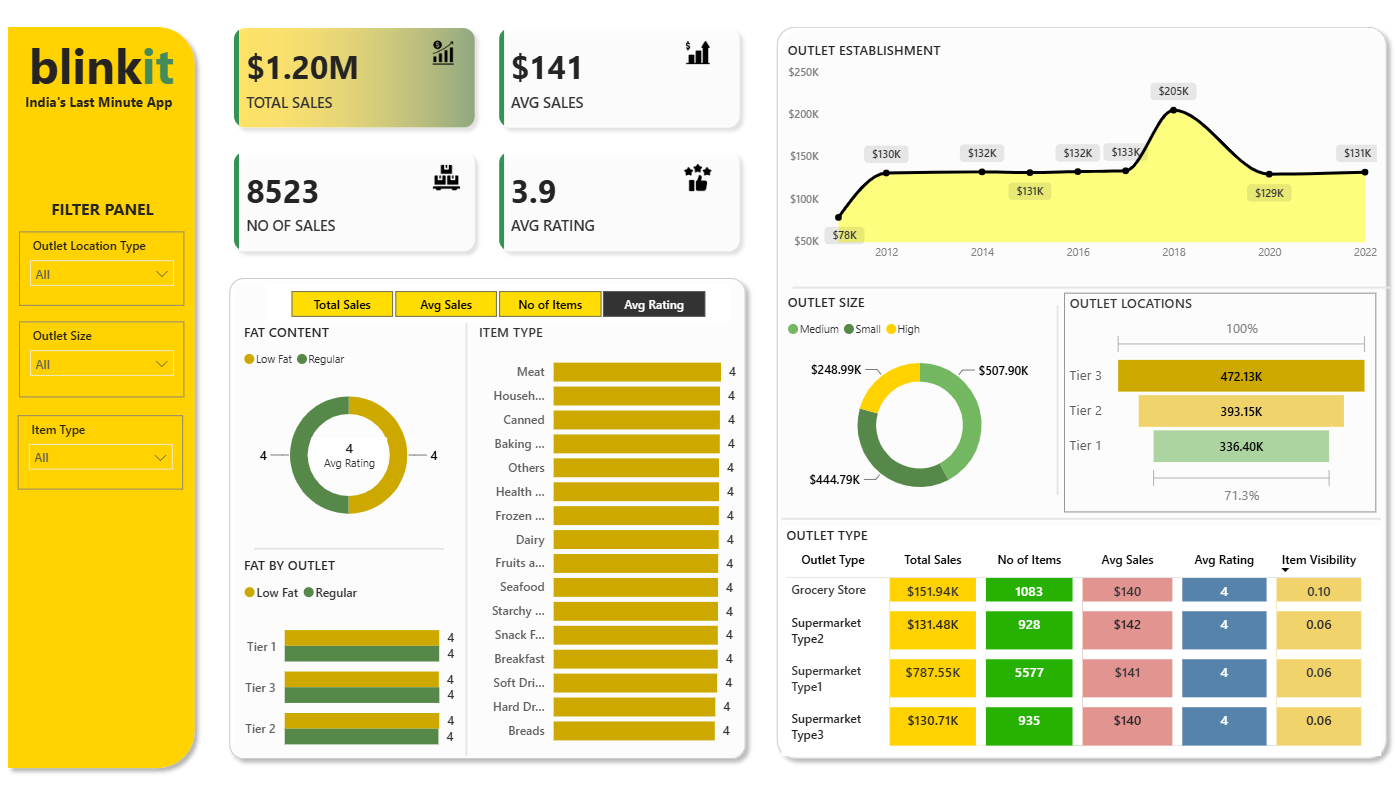

The dashboard page shown, as its layout file describes it:
{"tool":"powerbi","page":{"name":"Page 1","canvas":[1400,800],"ordinal":0},"visuals":[{"type":"shape","box":[0,19,205.2,760.9],"z":0},{"type":"textbox","box":[24.5,28.5,164.4,74.7],"z":1000},{"type":"textbox","box":[21.7,88.3,169.8,31.3],"z":2000},{"type":"cardVisual","fields":{"Data":["BlinkIT Grocery Data.Total Sales","BlinkIT Grocery Data.Avg Sales","BlinkIT Grocery Data.No of Items","BlinkIT Grocery Data.Avg Rating"]},"box":[206.5,0,565.2,282.6],"z":3000},{"type":"shape","box":[221.5,270.4,535.3,500],"z":4000},{"type":"donutChart","title":"FAT CONTENT","fields":{"Y":["BlinkIT Grocery Data.Avg Rating"],"Category":["BlinkIT Grocery Data.Item Fat Content"]},"box":[240.5,324.7,220.1,220.1],"z":5000},{"type":"slicer","fields":{"Values":["Metrics.Metrics"]},"box":[266.3,285.3,464.7,39.4],"z":6000},{"type":"cardVisual","fields":{"Data":["BlinkIT Grocery Data.Avg Rating"]},"box":[307.5,435,86.2,42.5],"z":7000},{"type":"clusteredBarChart","title":"FAT BY OUTLET","fields":{"Y":["BlinkIT Grocery Data.Avg Rating"],"Category":["BlinkIT Grocery Data.Outlet Location Type"],"Series":["BlinkIT Grocery Data.Item Fat Content"]},"box":[239.9,557,220.9,213],"z":8000},{"type":"shape","box":[255.4,544.8,190.2,12.2],"z":9000},{"type":"shape","box":[460.6,324.7,14.9,433.4],"z":10000},{"type":"barChart","title":"ITEM TYPE","fields":{"Y":["BlinkIT Grocery Data.Avg Rating"],"Category":["BlinkIT Grocery Data.Item Type"]},"box":[475.5,324.7,267.7,433.4],"z":11000},{"type":"shape","box":[770.4,19,629.1,751.4],"z":12000},{"type":"lineChart","title":"OUTLET ESTABLISHMENT","fields":{"Y":["BlinkIT Grocery Data.Total Sales"],"Category":["BlinkIT Grocery Data.Outlet Establishment Year"]},"box":[785.3,40.8,600.5,229.6],"z":13000},{"type":"shape","box":[784,514.9,600.5,12.2],"z":14000},{"type":"donutChart","title":"OUTLET SIZE","fields":{"Y":["BlinkIT Grocery Data.Total Sales"],"Category":["BlinkIT Grocery Data.Outlet Size"]},"box":[785.3,294.8,274.5,220.1],"z":15000},{"type":"shape","box":[1054.4,307.1,12.2,190.2],"z":16000},{"type":"funnel","title":"OUTLET LOCATIONS","fields":{"Category":["BlinkIT Grocery Data.Outlet Location Type"],"Y":["Sum(BlinkIT Grocery Data.Sales)"]},"box":[1066.6,294.8,312.5,220.1],"z":17000},{"type":"shape","box":[795.3,283.1,600.5,12.2],"z":18000},{"type":"pivotTable","title":"OUTLET TYPE","fields":{"Values":["BlinkIT Grocery Data.Total Sales","BlinkIT Grocery Data.No of Items","BlinkIT Grocery Data.Avg Sales","BlinkIT Grocery Data.Avg Rating","Avg(BlinkIT Grocery Data.Item Visibility)"],"Rows":["BlinkIT Grocery Data.Outlet Type"]},"box":[784,527.2,600.5,231],"z":19000},{"type":"slicer","fields":{"Values":["BlinkIT Grocery Data.Outlet Location Type"]},"box":[20.4,232.3,165.8,74.7],"z":20000},{"type":"slicer","fields":{"Values":["BlinkIT Grocery Data.Outlet Size"]},"box":[20.5,323.5,165.7,75.7],"z":21000},{"type":"slicer","fields":{"Values":["BlinkIT Grocery Data.Item Type"]},"box":[18.9,416.6,165.7,74.2],"z":22000},{"type":"textbox","box":[34.7,194.1,137.3,37.9],"z":23000},{"type":"image","box":[427.1,41.3,36.3,25],"z":24000},{"type":"image","box":[682.5,165.3,35.1,27.6],"z":25000},{"type":"image","box":[428.3,165.3,40.1,27.6],"z":26000},{"type":"image","box":[682.5,41.3,35.1,25],"z":27000}]}

Visuals, with their boxes in screenshot pixels (x1, y1, x2, y2), scaled from the page's 1400x800 canvas onto the 1395x794 screenshot:
shape: left=0, top=19, right=204, bottom=774
textbox: left=24, top=28, right=188, bottom=102
textbox: left=22, top=88, right=191, bottom=119
cardVisual - BlinkIT Grocery Data.Total Sales x BlinkIT Grocery Data.Avg Sales: left=206, top=0, right=769, bottom=280
shape: left=221, top=268, right=754, bottom=765
"FAT CONTENT" donutChart: left=240, top=322, right=459, bottom=541
slicer - Metrics.Metrics: left=265, top=283, right=728, bottom=322
cardVisual - BlinkIT Grocery Data.Avg Rating: left=306, top=432, right=392, bottom=474
"FAT BY OUTLET" clusteredBarChart: left=239, top=553, right=459, bottom=764
shape: left=254, top=541, right=444, bottom=553
shape: left=459, top=322, right=474, bottom=752
"ITEM TYPE" barChart: left=474, top=322, right=741, bottom=752
shape: left=768, top=19, right=1394, bottom=765
"OUTLET ESTABLISHMENT" lineChart: left=782, top=40, right=1381, bottom=268
shape: left=781, top=511, right=1380, bottom=523
"OUTLET SIZE" donutChart: left=782, top=293, right=1056, bottom=511
shape: left=1051, top=305, right=1063, bottom=494
"OUTLET LOCATIONS" funnel: left=1063, top=293, right=1374, bottom=511
shape: left=792, top=281, right=1391, bottom=293
"OUTLET TYPE" pivotTable: left=781, top=523, right=1380, bottom=753
slicer - BlinkIT Grocery Data.Outlet Location Type: left=20, top=231, right=186, bottom=305
slicer - BlinkIT Grocery Data.Outlet Size: left=20, top=321, right=186, bottom=396
slicer - BlinkIT Grocery Data.Item Type: left=19, top=413, right=184, bottom=487
textbox: left=35, top=193, right=171, bottom=230
image: left=426, top=41, right=462, bottom=66
image: left=680, top=164, right=715, bottom=191
image: left=427, top=164, right=467, bottom=191
image: left=680, top=41, right=715, bottom=66
